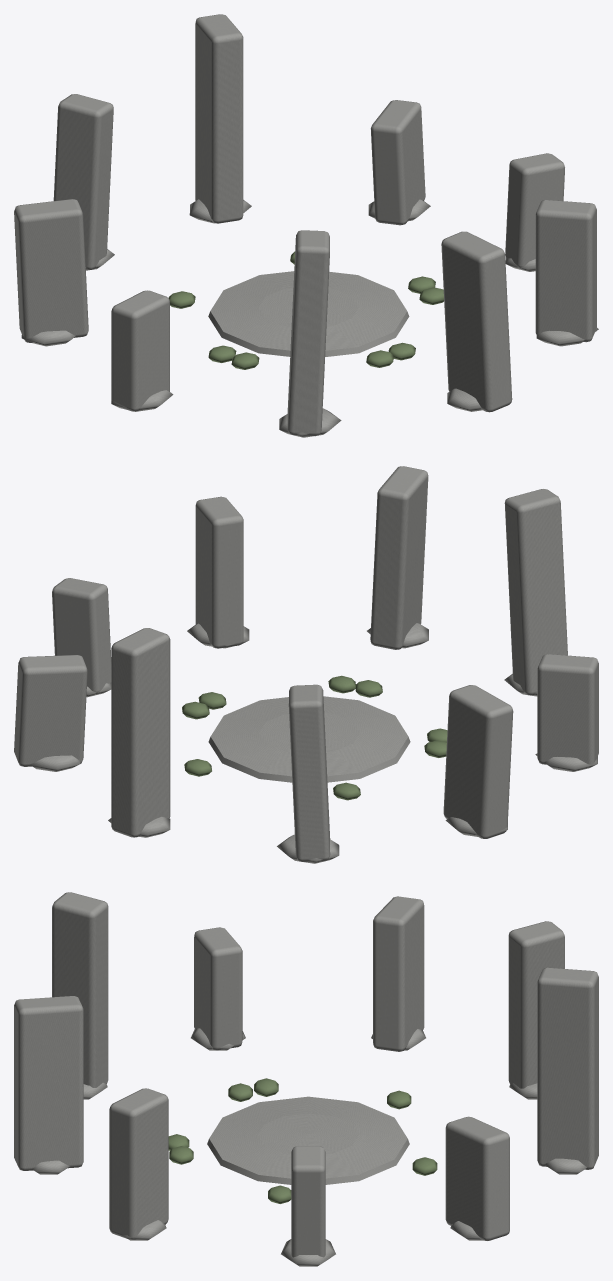
The model's file is viking-age-longhouse-and-longship-standing-stone-circl-ccffbf2d__30184.glb.
3 renders of one model, top to bottom at view 1: azimuth 30°, elevation 25°; view 2: azimuth 150°, elevation 25°; view 3: azimuth 270°, elevation 25°, orthographic.
Parts seen in each view (by area): view 1: standing-stone-circle; view 2: standing-stone-circle; view 3: standing-stone-circle.
Part boxes in pixels (<box>): standing-stone-circle: <box>14,14,598,437</box>; standing-stone-circle: <box>14,466,598,863</box>; standing-stone-circle: <box>14,892,598,1266</box>.
Size of the model in its own units: 5.73 by 2.12 by 5.77.
Materials: 2 (2 with a texture image).
